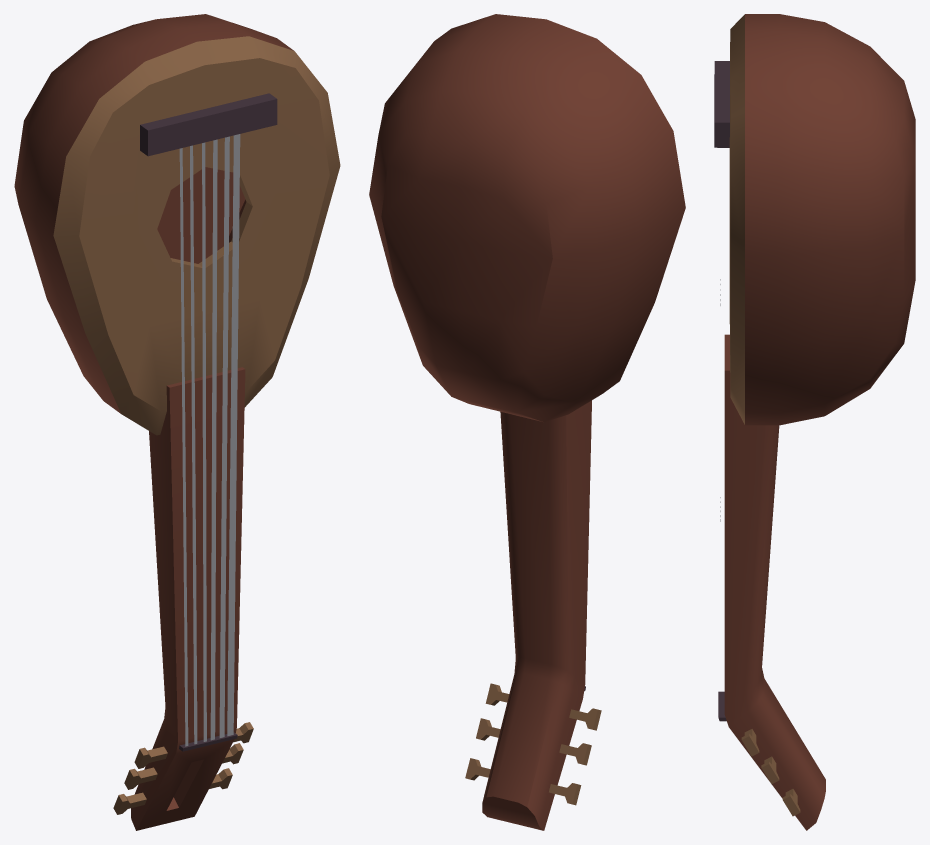
Rendered from weapon-lute.glb.
3 views of the same model, side by side, from view 1: azimuth 30°, elevation 25°; view 2: azimuth 150°, elevation 25°; view 3: azimuth 270°, elevation 25° (orthographic). The views are drawn at different scales.
Parts seen in each view (by area): view 1: Weapon_Lute; view 2: Weapon_Lute; view 3: Weapon_Lute.
Boxes of the visible parts, left/top/right/bottom form: Weapon_Lute: left=14, top=14, right=340, bottom=830; Weapon_Lute: left=369, top=14, right=685, bottom=830; Weapon_Lute: left=714, top=14, right=915, bottom=830.
Size of the model in its own units: 0.4987 by 1.33 by 0.3096.
Materials: 1 (1 with a texture image).
